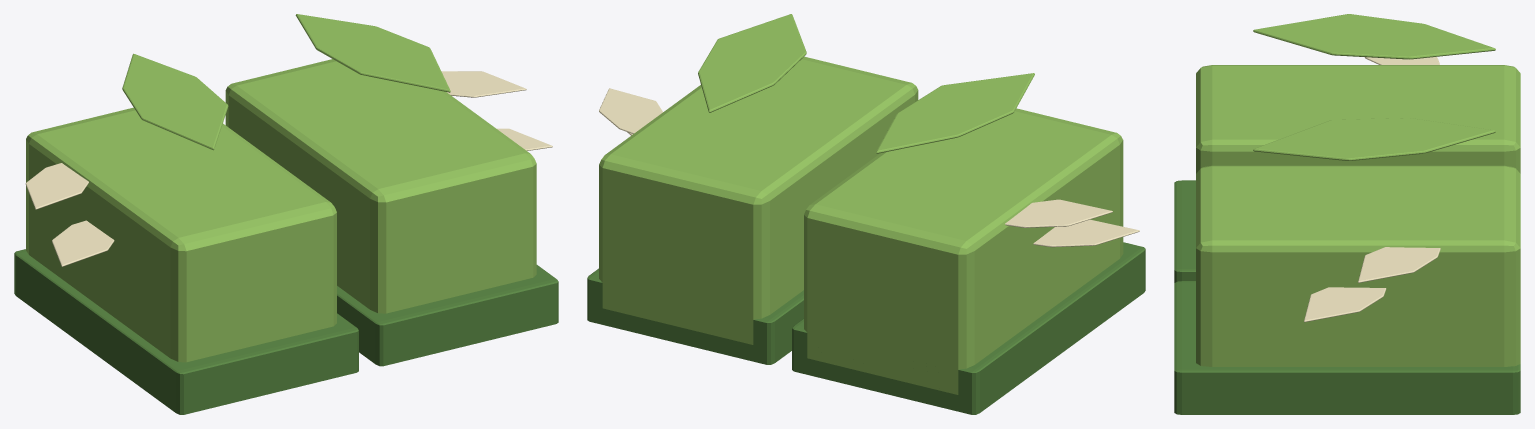
File: leaf_shoes.glb
The picture shows the model from 3 angles, left to right: view 1: azimuth 30°, elevation 25°; view 2: azimuth 150°, elevation 25°; view 3: azimuth 270°, elevation 25°; orthographic projection. The views are drawn at different scales.
Parts seen in each view (by area): view 1: Shoe.L, Shoe.R, Sole.L, Sole.R, TopLeaf.R, TopLeaf.L, Wing.L.1, Wing.L.0, Wing.R.1, Wing.R.0; view 2: Shoe.L, Shoe.R, Sole.L, TopLeaf.L, TopLeaf.R, Sole.R, Wing.L.1, Wing.R.1, Wing.L.0; view 3: Shoe.R, Shoe.L, Sole.R, TopLeaf.L, TopLeaf.R, Sole.L, Wing.R.1, Wing.R.0, Wing.L.1.
Part boxes in pixels (x1=…): Shoe.L: x1=26, y1=107, x2=336, y2=362; Shoe.R: x1=225, y1=59, x2=536, y2=313; Sole.L: x1=14, y1=249, x2=358, y2=414; Sole.R: x1=337, y1=265, x2=558, y2=366; TopLeaf.R: x1=295, y1=14, x2=450, y2=92; TopLeaf.L: x1=122, y1=53, x2=228, y2=150; Wing.L.1: x1=25, y1=163, x2=88, y2=209; Wing.L.0: x1=52, y1=220, x2=114, y2=266; Wing.R.1: x1=441, y1=71, x2=526, y2=97; Wing.R.0: x1=497, y1=128, x2=552, y2=150; Shoe.L: x1=804, y1=108, x2=1123, y2=394; Shoe.R: x1=599, y1=56, x2=918, y2=344; Sole.L: x1=792, y1=242, x2=1145, y2=414; TopLeaf.L: x1=876, y1=73, x2=1034, y2=153; TopLeaf.R: x1=698, y1=14, x2=806, y2=112; Sole.R: x1=587, y1=268, x2=803, y2=364; Wing.L.1: x1=1005, y1=199, x2=1112, y2=227; Wing.R.1: x1=599, y1=88, x2=662, y2=133; Wing.L.0: x1=1033, y1=219, x2=1139, y2=247; Shoe.R: x1=1196, y1=165, x2=1520, y2=366; Shoe.L: x1=1196, y1=65, x2=1520, y2=173; Sole.R: x1=1174, y1=281, x2=1520, y2=414; TopLeaf.L: x1=1253, y1=14, x2=1495, y2=59; TopLeaf.R: x1=1253, y1=118, x2=1495, y2=161; Sole.L: x1=1174, y1=180, x2=1195, y2=282; Wing.R.1: x1=1358, y1=247, x2=1440, y2=282; Wing.R.0: x1=1304, y1=287, x2=1386, y2=322; Wing.L.1: x1=1364, y1=57, x2=1439, y2=64.
Size of the model in its own units: 1.08 by 0.4762 by 0.64.
